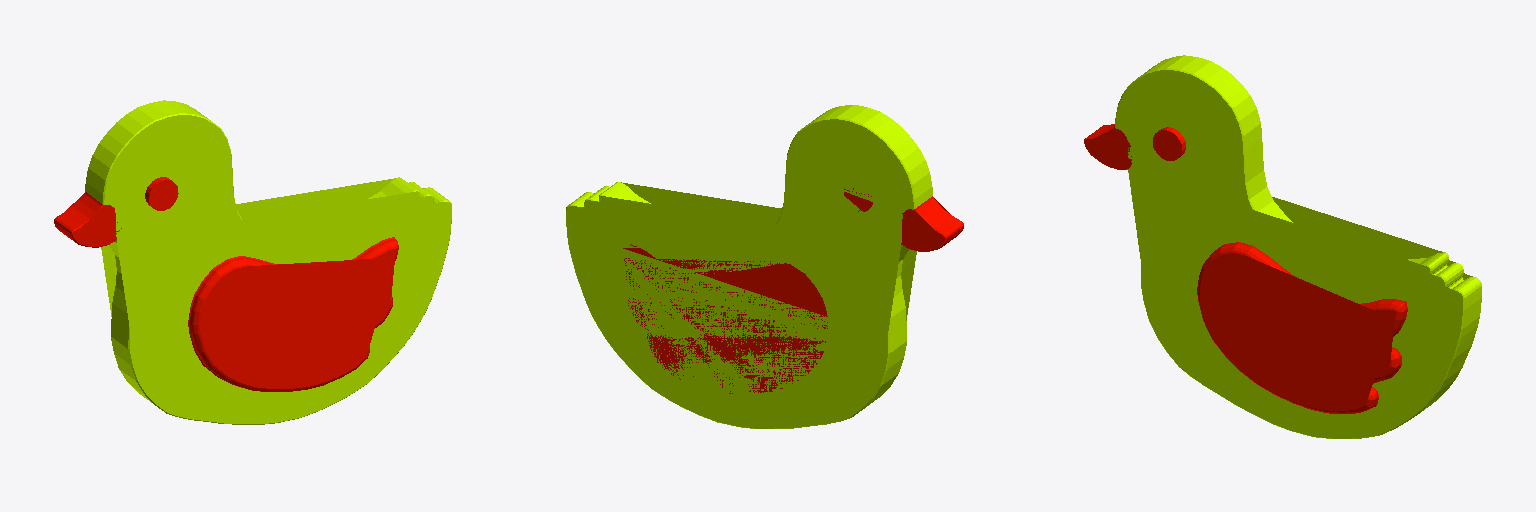
Rendered from Duck.obj.
The picture shows the model from 3 angles: view 1: azimuth 30°, elevation 25°; view 2: azimuth 150°, elevation 25°; view 3: azimuth 330°, elevation 25°; orthographic projection.
Parts seen in each view (by area): view 1: Duck.002_Vert.002; view 2: Duck.002_Vert.002; view 3: Duck.002_Vert.002.
Part boxes in pixels (bbox=[...]): Duck.002_Vert.002: bbox=[54, 100, 451, 424]; Duck.002_Vert.002: bbox=[566, 105, 963, 428]; Duck.002_Vert.002: bbox=[1084, 55, 1481, 438].
Size of the model in its own units: 0.2622 by 0.2202 by 0.0292.